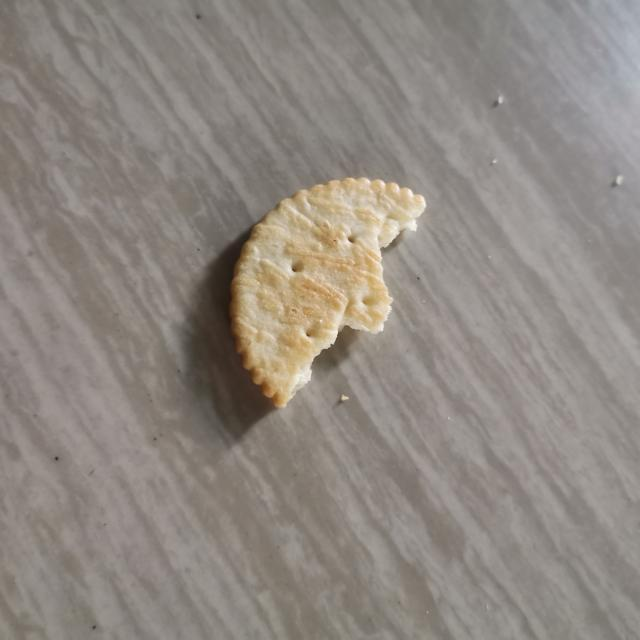Broken: (229, 175, 427, 409)
